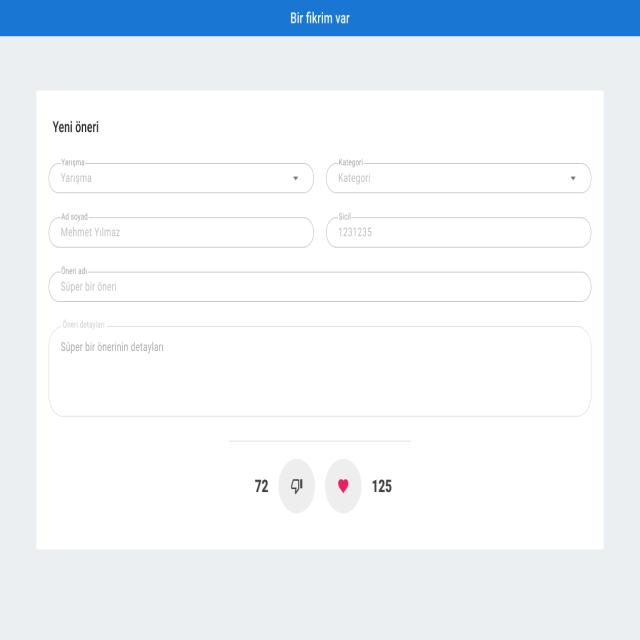QLabel: (288, 8, 351, 28), (47, 116, 102, 138), (369, 478, 396, 498), (248, 474, 272, 496)
VAppBar: (0, 0, 640, 36)
VCard: (36, 89, 604, 551)
VCombobox: (326, 157, 592, 196), (48, 158, 314, 195)
VDivider: (226, 436, 413, 446)
VImg: (322, 457, 364, 517), (276, 457, 317, 516)
VTextField: (48, 265, 592, 304), (325, 212, 592, 250), (48, 213, 314, 250)
VTextarea: (48, 319, 593, 419)
